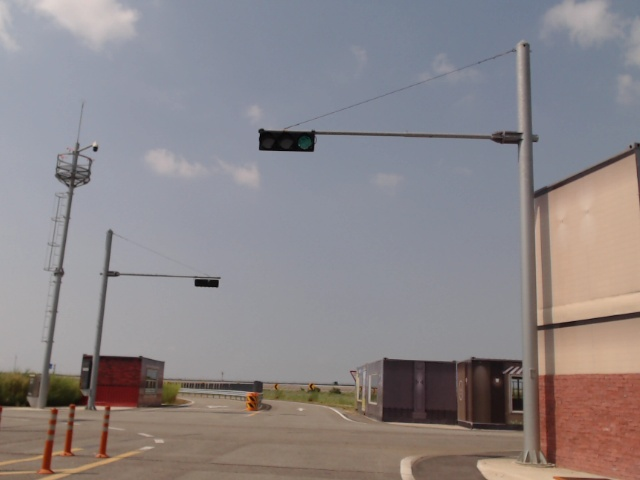green_3: (259, 130, 314, 152)
